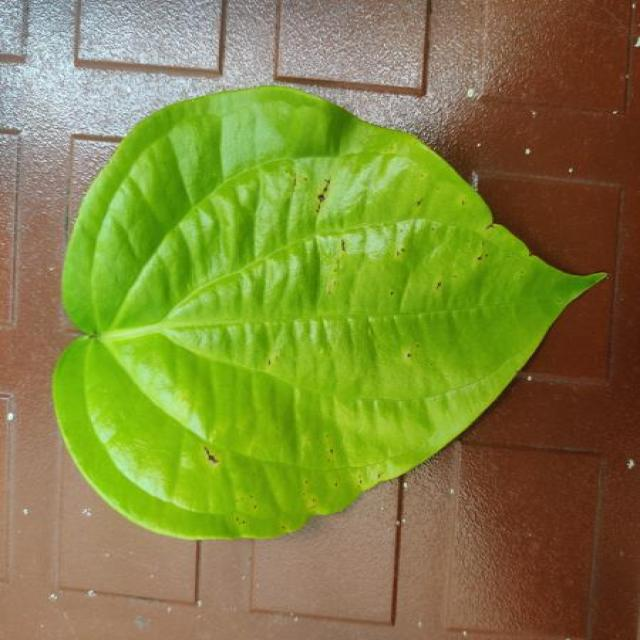betel: (53, 86, 605, 539)
